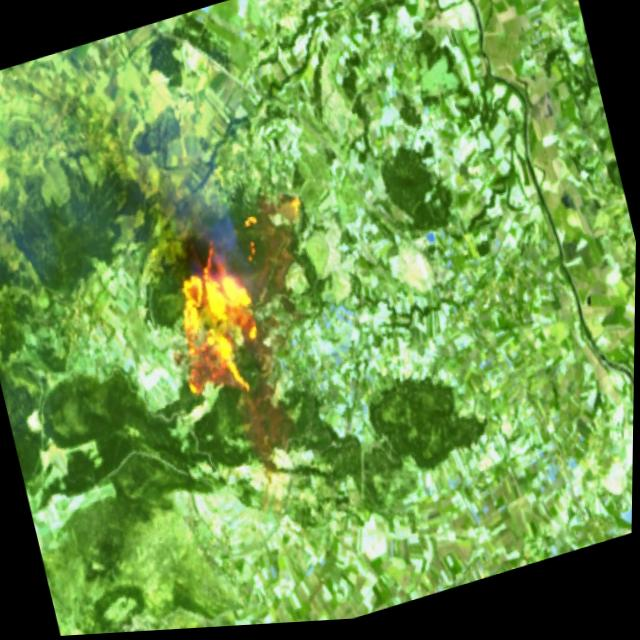fire: (142, 214, 291, 423)
